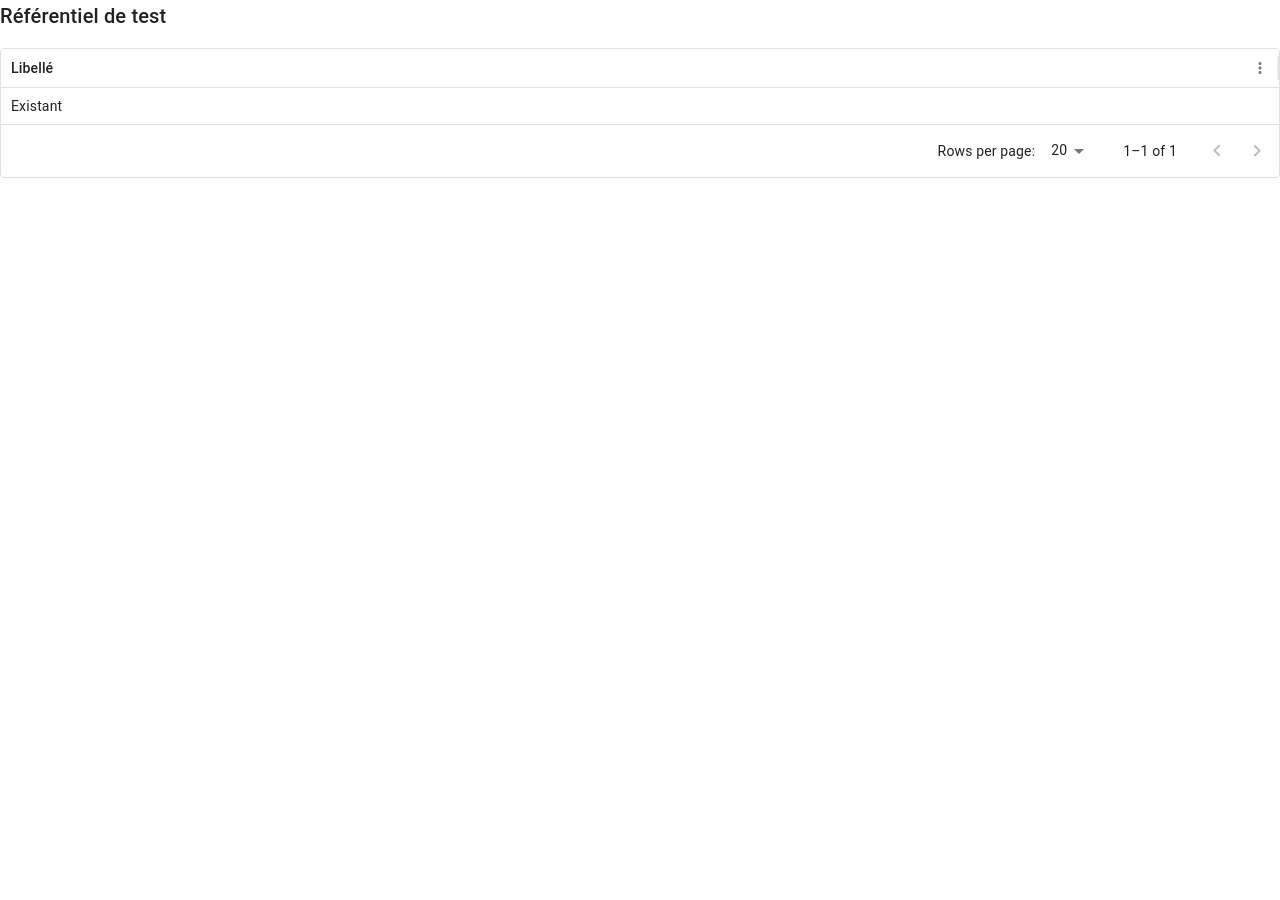
Test: ReferentialAdminTab › opens the edit dialog on row click only when renderEditForm is provided
Click the text "Existant": (37, 106) [11, 98, 62, 114]
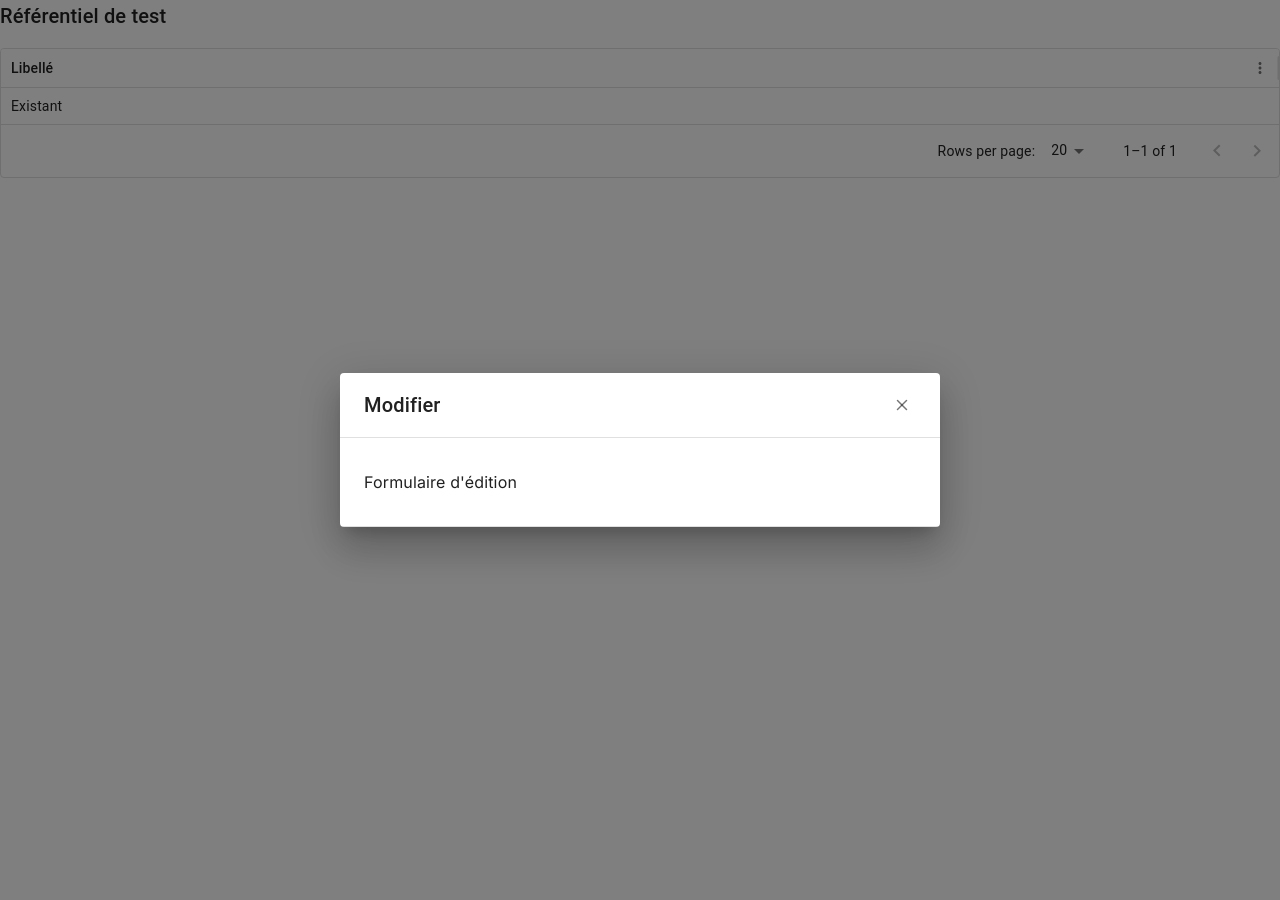
Expected: the text "Formulaire d'édition" is shown, [364, 472, 517, 492]
